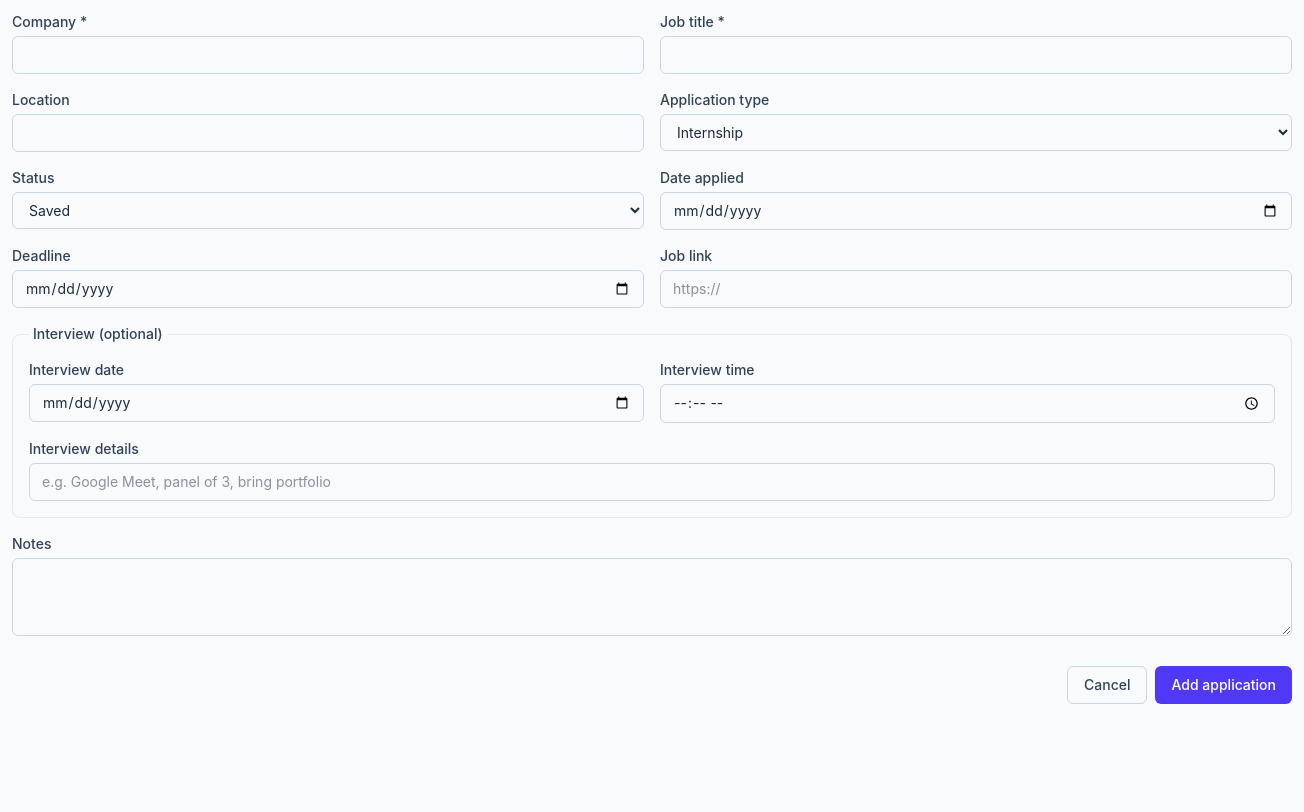
ApplicationForm › asks for an interview date when the status is Interview
Type "Google" into the field labelled "Company *" at (328, 55), box [12,36,644,74]
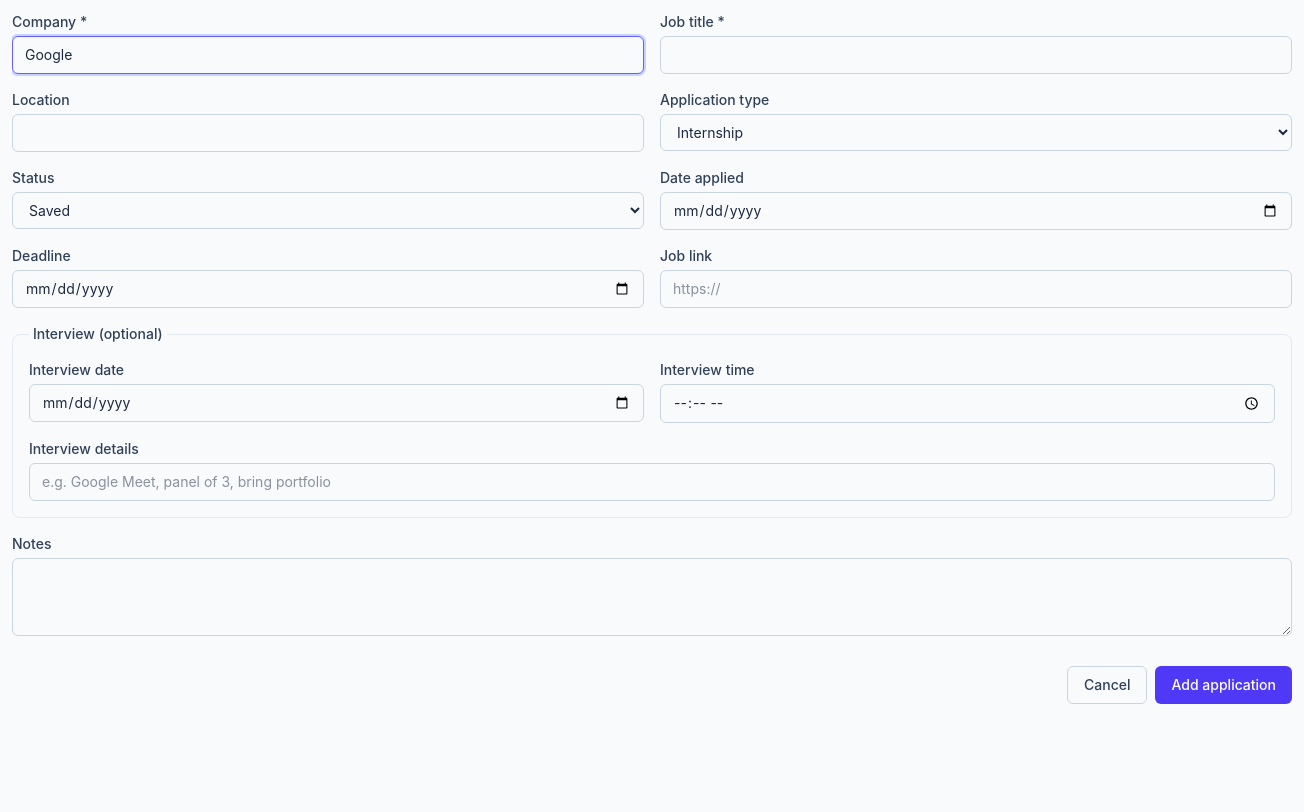
Type "Analyst" into the field labelled "Job title *" at (976, 55), box [660,36,1292,74]
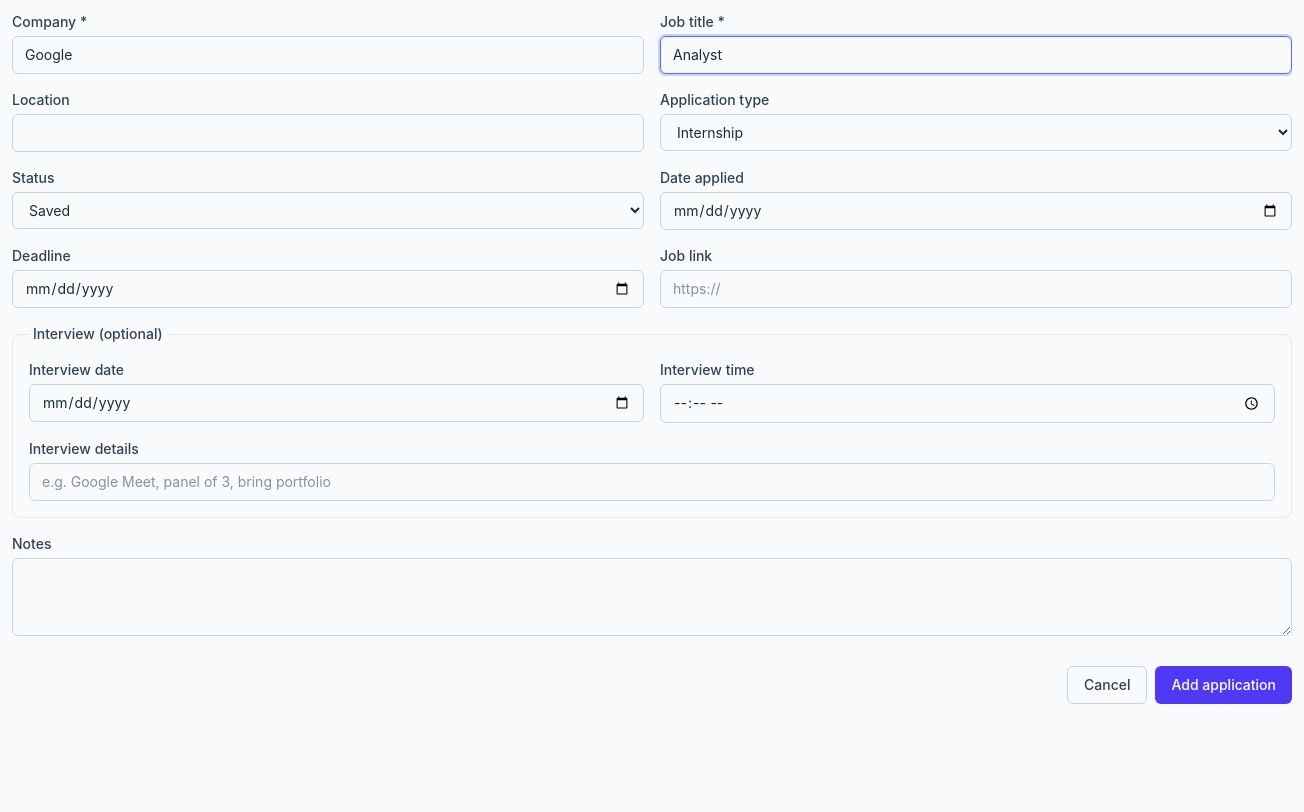
Select "Interview" in the dropdown labelled "Status" at (328, 210), box [12,192,644,229]
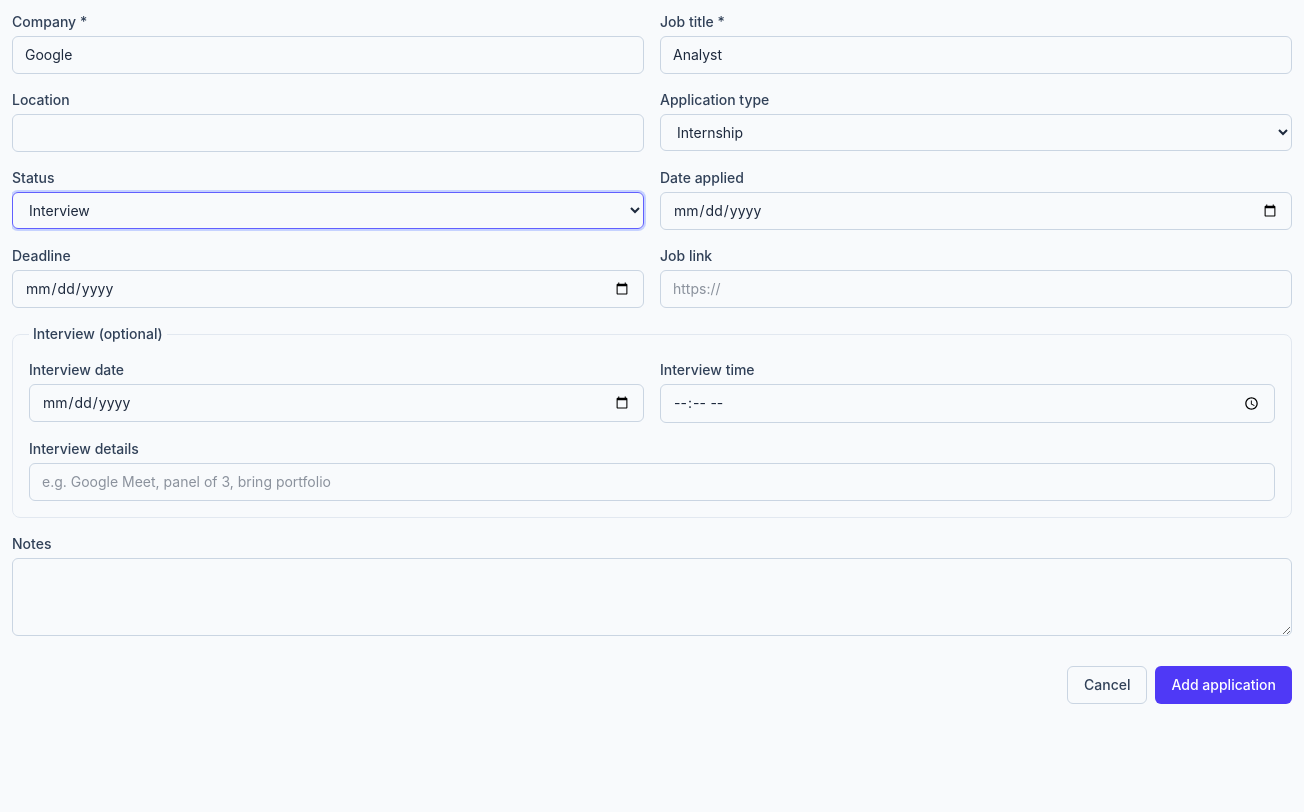
Click the button "Add application" at (1224, 685), box [1156,666,1292,704]
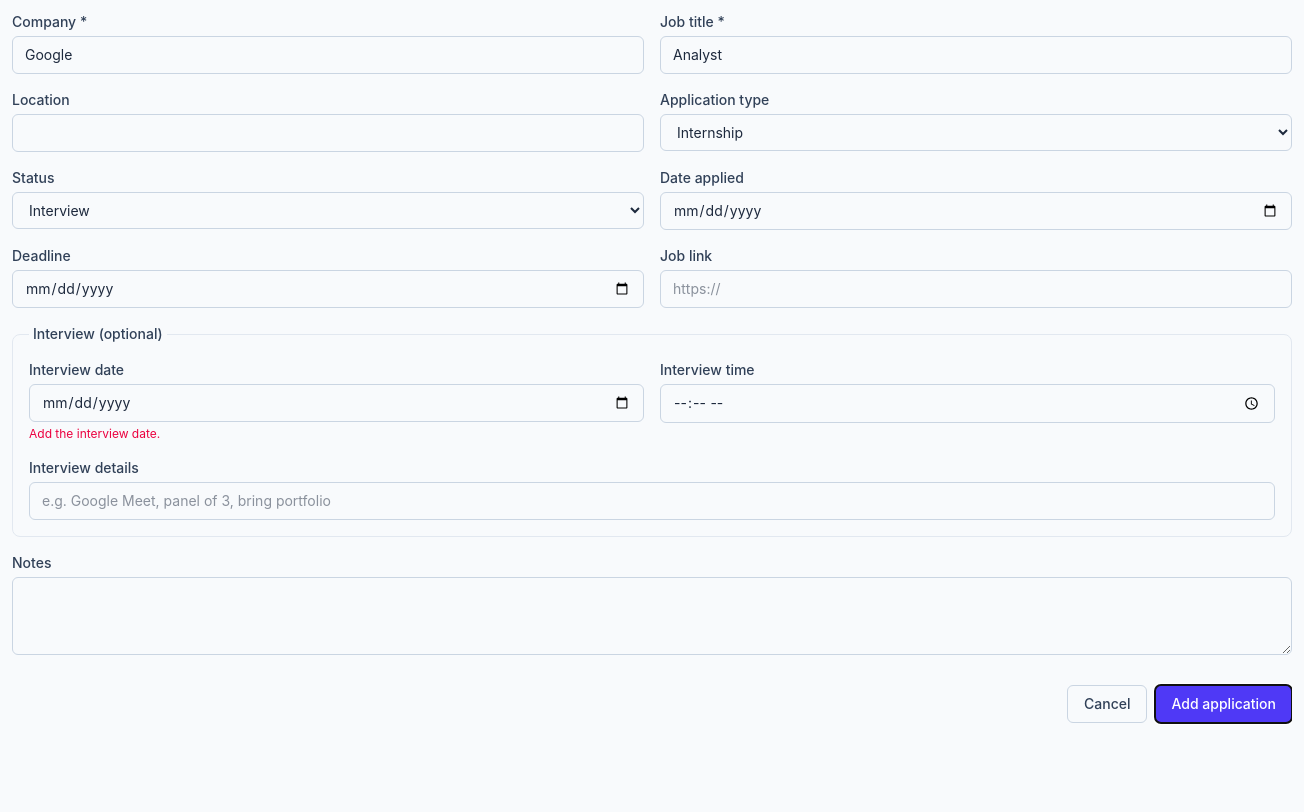
Check: the text "Add the interview date." is shown, box [29,426,160,441]
